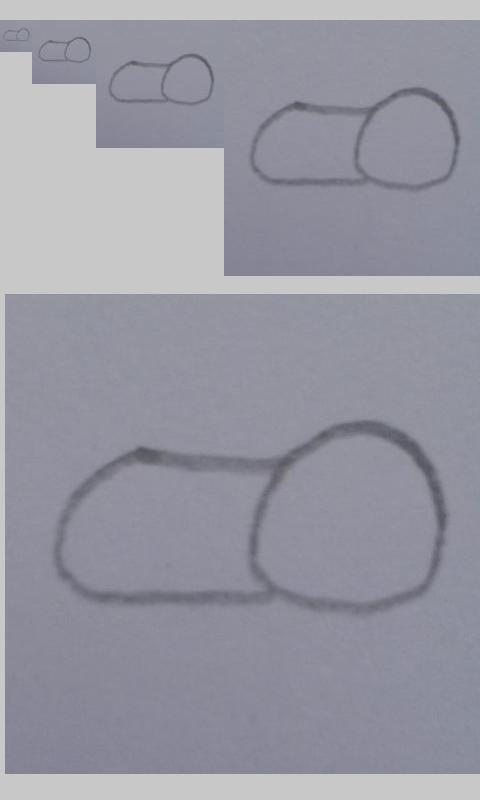switch: (52, 418, 450, 616), (249, 85, 461, 192), (107, 53, 215, 107), (37, 36, 92, 64), (2, 27, 31, 42)
